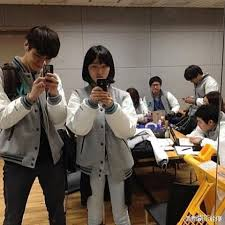people: (1, 26, 68, 225), (68, 45, 138, 225), (184, 64, 225, 109), (194, 106, 225, 159), (147, 76, 180, 113), (127, 87, 149, 123)
